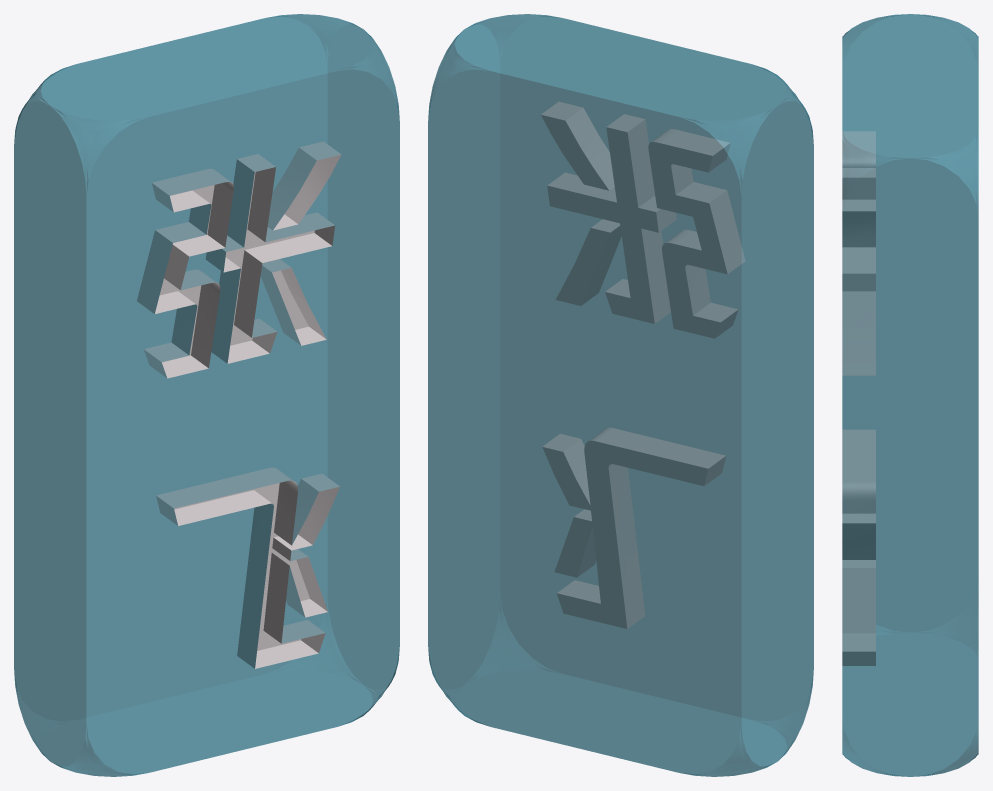
Rendered from zhangfei.gltf.
3 renders of one model, left to right at view 1: azimuth 30°, elevation 25°; view 2: azimuth 150°, elevation 25°; view 3: azimuth 270°, elevation 25°, orthographic. The views are drawn at different scales.
Parts seen in each view (by area): view 1: g, 张, 飞; view 2: g, 张, 飞; view 3: g, 张, 飞.
Part boxes in pixels (left/top/right/bottom): g: left=14, top=14, right=399, bottom=776; 张: left=137, top=141, right=341, bottom=378; 飞: left=156, top=467, right=339, bottom=668; g: left=428, top=14, right=813, bottom=776; 张: left=541, top=101, right=745, bottom=338; 飞: left=542, top=427, right=725, bottom=628; g: left=842, top=14, right=978, bottom=776; 张: left=842, top=131, right=875, bottom=375; 飞: left=842, top=429, right=875, bottom=665.
Bounding box in the file's own units: 200 × 400 × 80.
